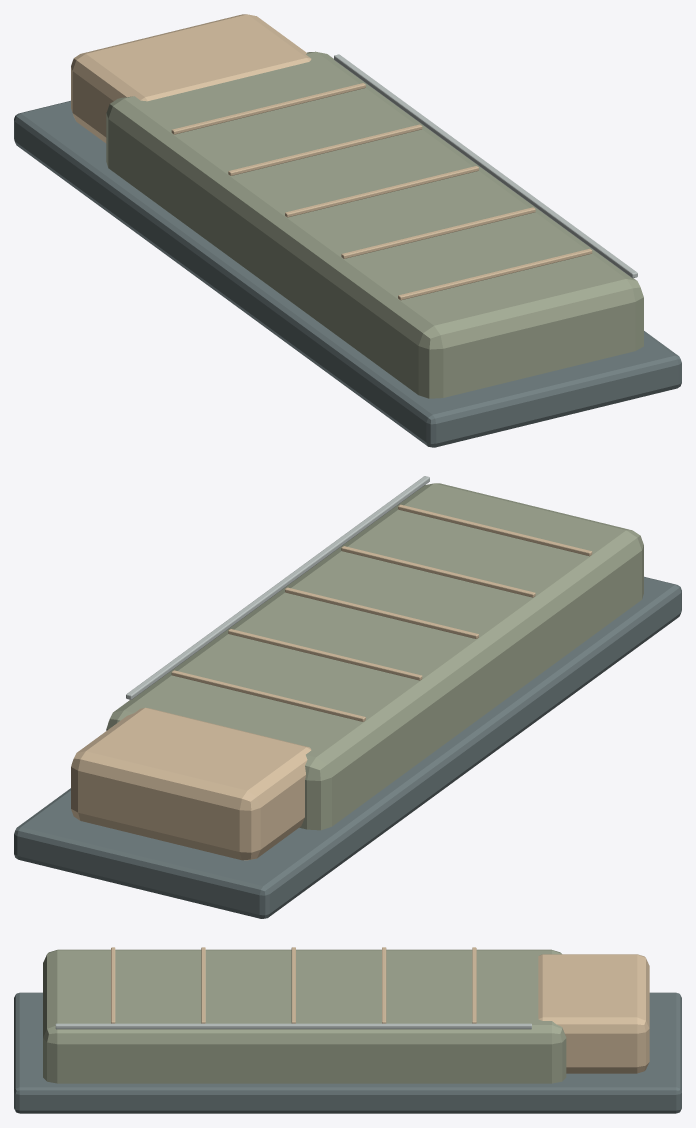
3 views of the same model, one above another, from view 1: azimuth 30°, elevation 25°; view 2: azimuth 150°, elevation 25°; view 3: azimuth 270°, elevation 25° (orthographic). The views are drawn at different scales.
Visible parts, largest first — view 1: sleeping bag body, unrolled sleeping mat, pillow, zipper rail, quilting seam.001, quilting seam.004, quilting seam.003, quilting seam.002, quilting seam; view 2: sleeping bag body, unrolled sleeping mat, pillow, zipper rail, quilting seam.004, quilting seam.001, quilting seam.003, quilting seam, quilting seam.002; view 3: sleeping bag body, unrolled sleeping mat, pillow, zipper rail, quilting seam.001, quilting seam, quilting seam.002, quilting seam.003, quilting seam.004.
Part boxes in pixels (left/top/right/bottom): sleeping bag body: left=106, top=51, right=643, bottom=398; unrolled sleeping mat: left=14, top=100, right=681, bottom=447; pillow: left=71, top=14, right=311, bottom=143; zipper rail: left=334, top=54, right=637, bottom=278; quilting seam.001: left=341, top=207, right=535, bottom=258; quilting seam.004: left=171, top=83, right=365, bottom=134; quilting seam.003: left=228, top=124, right=422, bottom=175; quilting seam.002: left=285, top=166, right=478, bottom=217; quilting seam: left=398, top=248, right=592, bottom=300; sleeping bag body: left=106, top=483, right=643, bottom=830; unrolled sleeping mat: left=14, top=576, right=681, bottom=918; pillow: left=71, top=707, right=311, bottom=860; zipper rail: left=126, top=476, right=429, bottom=699; quilting seam.004: left=171, top=670, right=365, bottom=721; quilting seam.001: left=341, top=546, right=535, bottom=597; quilting seam.003: left=228, top=629, right=422, bottom=680; quilting seam: left=398, top=504, right=592, bottom=556; quilting seam.002: left=285, top=587, right=478, bottom=638; sleeping bag body: left=43, top=949, right=566, bottom=1083; unrolled sleeping mat: left=14, top=992, right=681, bottom=1113; pillow: left=538, top=954, right=649, bottom=1073; zipper rail: left=55, top=1023, right=531, bottom=1029; quilting seam.001: left=201, top=947, right=205, bottom=1023; quilting seam: left=111, top=947, right=115, bottom=1023; quilting seam.002: left=291, top=947, right=295, bottom=1023; quilting seam.003: left=382, top=947, right=386, bottom=1023; quilting seam.004: left=472, top=947, right=476, bottom=1023.
Bounding box in the file's own units: 0.65 × 0.251 × 1.85.
